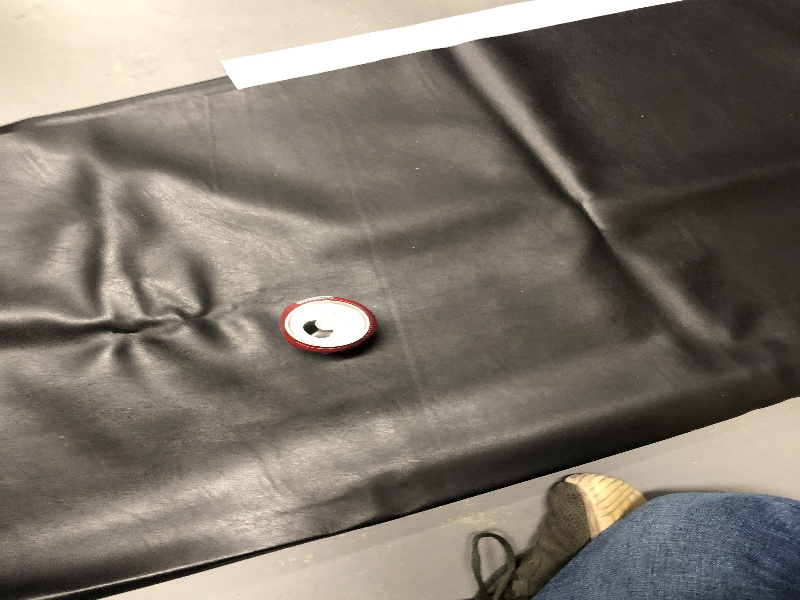metal: (267, 285, 382, 365)
